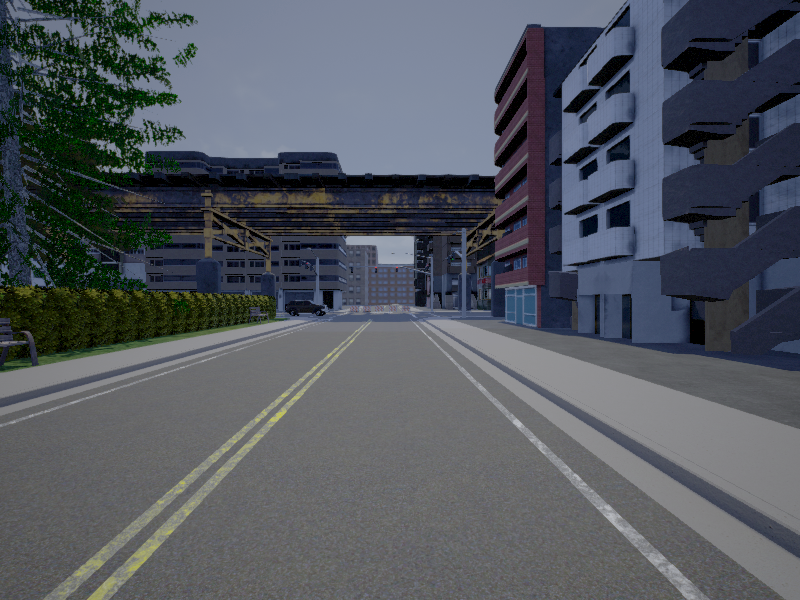Benign: (286, 300, 329, 318)
